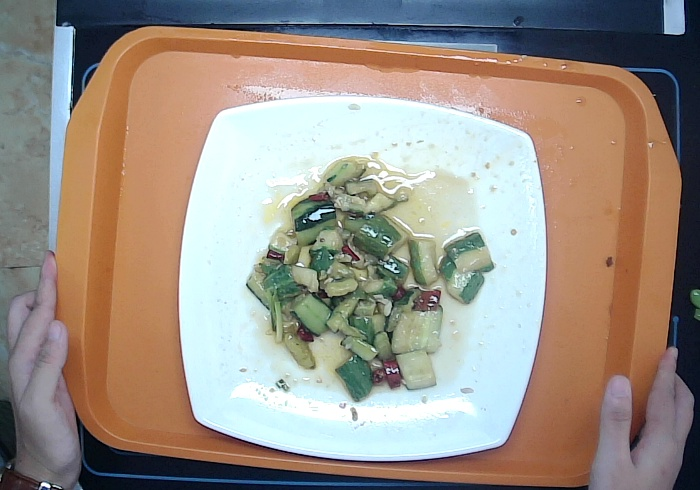ZNLD-Bai_Fang_Pan: (174, 94, 548, 463)
